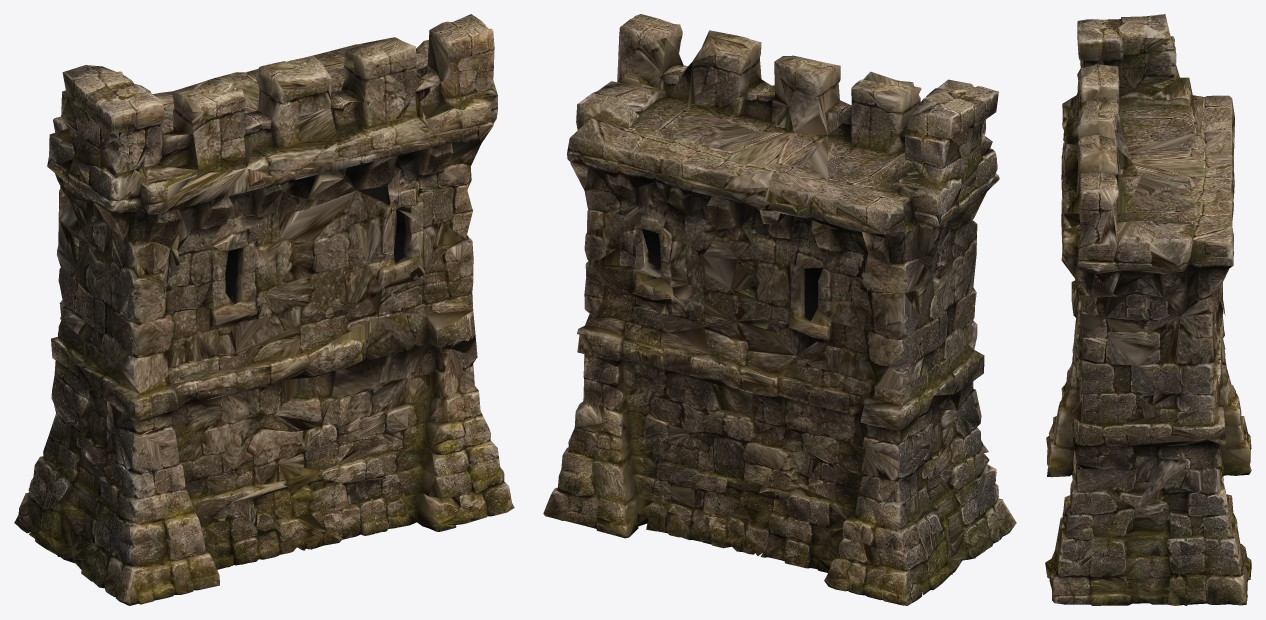
3 renders of one model, left to right at view 1: azimuth 30°, elevation 25°; view 2: azimuth 150°, elevation 25°; view 3: azimuth 270°, elevation 25°, orthographic. The views are drawn at different scales.
Parts seen in each view (by area): view 1: tripo_node_04d4a724-f171-4ee6-9a28-c7c8e793f3f7; view 2: tripo_node_04d4a724-f171-4ee6-9a28-c7c8e793f3f7; view 3: tripo_node_04d4a724-f171-4ee6-9a28-c7c8e793f3f7.
Part boxes in pixels (box(x1,y1,x2,y2)): tripo_node_04d4a724-f171-4ee6-9a28-c7c8e793f3f7: box(14, 14, 514, 605); tripo_node_04d4a724-f171-4ee6-9a28-c7c8e793f3f7: box(543, 14, 1016, 605); tripo_node_04d4a724-f171-4ee6-9a28-c7c8e793f3f7: box(1045, 14, 1251, 605).
Size of the model in its own units: 0.8356 by 0.9955 by 0.4306.
Materials: 1 (1 with a texture image).
